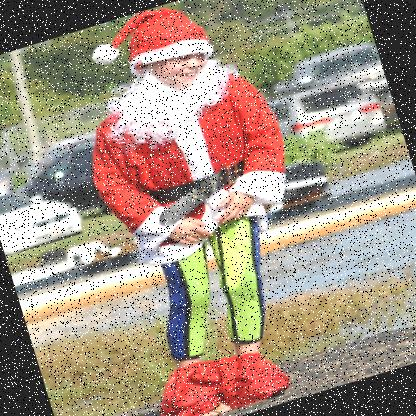Car: (266, 71, 388, 166), (16, 138, 108, 219), (0, 172, 84, 258), (278, 34, 379, 90)
